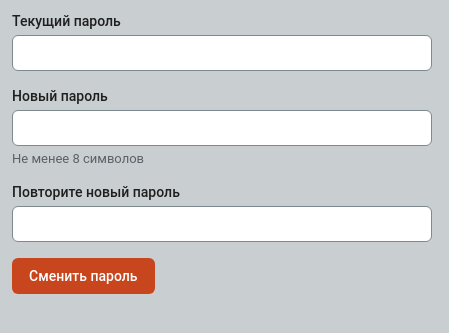
Scenario: PasswordChangeForm › подтверждение не совпадает — ошибка у поля подтверждения
Type "student112" into the password field labelled "Текущий пароль" at (222, 53), box [12, 35, 432, 71]
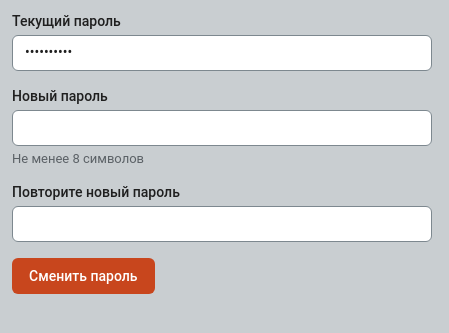
Type "новый-пароль-42" into the password field labelled "Новый пароль" at (222, 128), box [12, 110, 432, 146]
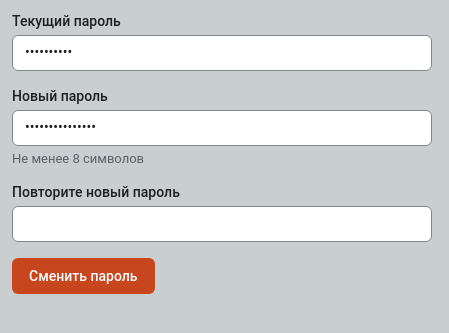
Type "другой-пароль-42" into the password field labelled "Повторите новый пароль" at (222, 224), box [12, 206, 432, 242]
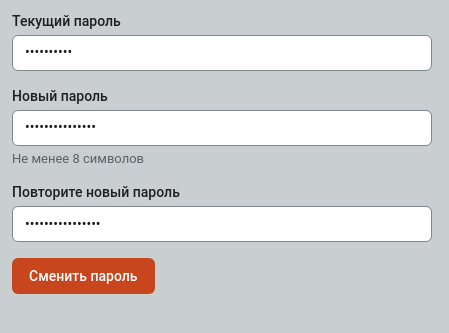
Click the button "Сменить пароль" at (83, 276), box [12, 258, 154, 294]
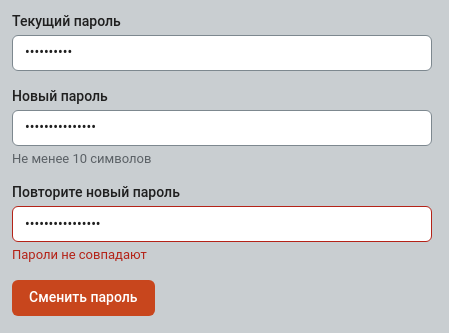
Check: the text "Пароли не совпадают" is shown, box [12, 247, 147, 262]
